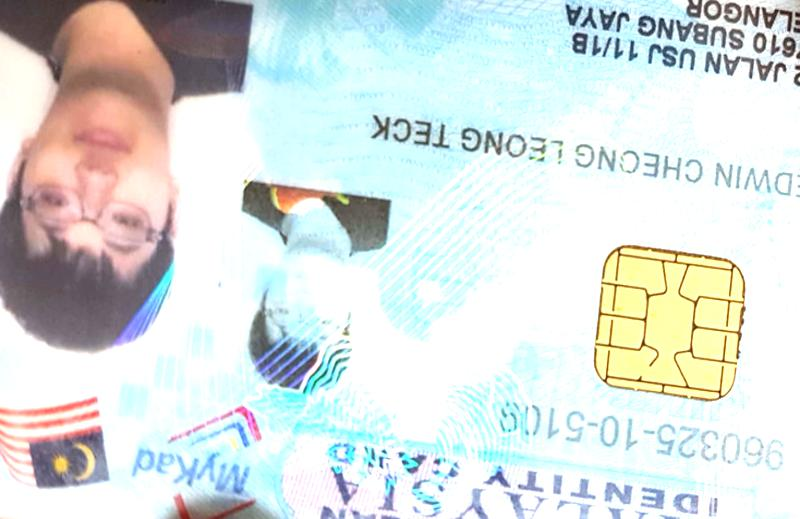hologram: (391, 170, 562, 328)
